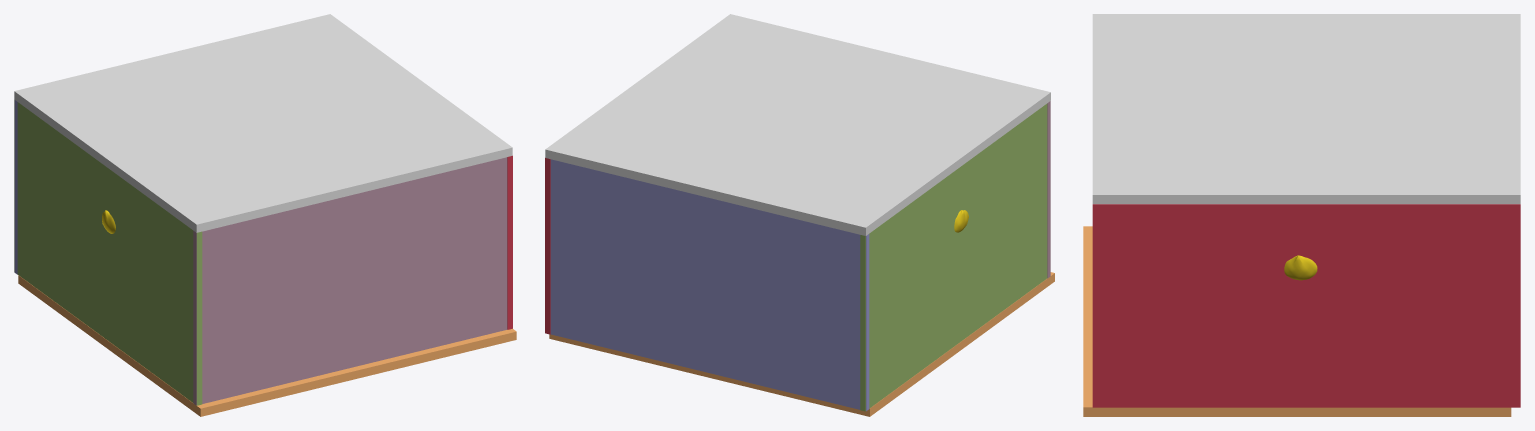
File: LACHAMBRE.fbx
The picture shows the model from 3 angles, left to right: view 1: azimuth 30°, elevation 25°; view 2: azimuth 150°, elevation 25°; view 3: azimuth 270°, elevation 25°; orthographic projection. The views are drawn at different scales.
Visible parts, largest first — view 1: plafond, mur3, mur4, sol, mur2, mur1; view 2: plafond, mur1, mur4, sol, mur2, mur3; view 3: mur2, plafond, sol, Poussin.005.
Part boxes in pixels (x1=…): plafond: x1=14, y1=14, x2=512, y2=232; mur3: x1=193, y1=157, x2=507, y2=405; mur4: x1=14, y1=100, x2=202, y2=405; sol: x1=18, y1=275, x2=516, y2=416; mur2: x1=507, y1=155, x2=512, y2=329; mur1: x1=14, y1=100, x2=17, y2=274; plafond: x1=545, y1=14, x2=1050, y2=235; mur1: x1=550, y1=159, x2=869, y2=411; mur4: x1=860, y1=103, x2=1047, y2=411; sol: x1=549, y1=272, x2=1054, y2=416; mur2: x1=545, y1=158, x2=550, y2=334; mur3: x1=1047, y1=101, x2=1050, y2=278; mur2: x1=1092, y1=204, x2=1520, y2=407; plafond: x1=1092, y1=14, x2=1520, y2=204; sol: x1=1083, y1=226, x2=1511, y2=416; Poussin.005: x1=1284, y1=255, x2=1317, y2=280.
Size of the model in its own units: 818 by 458 by 817.
